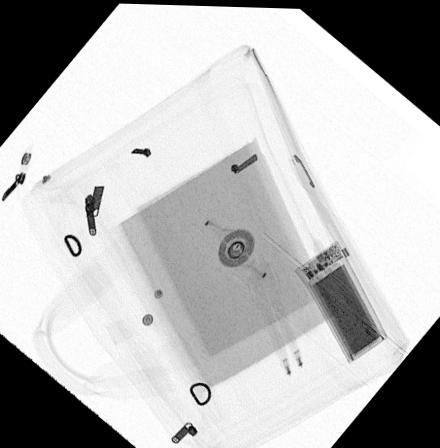Powerbank: (292, 237, 388, 364)
